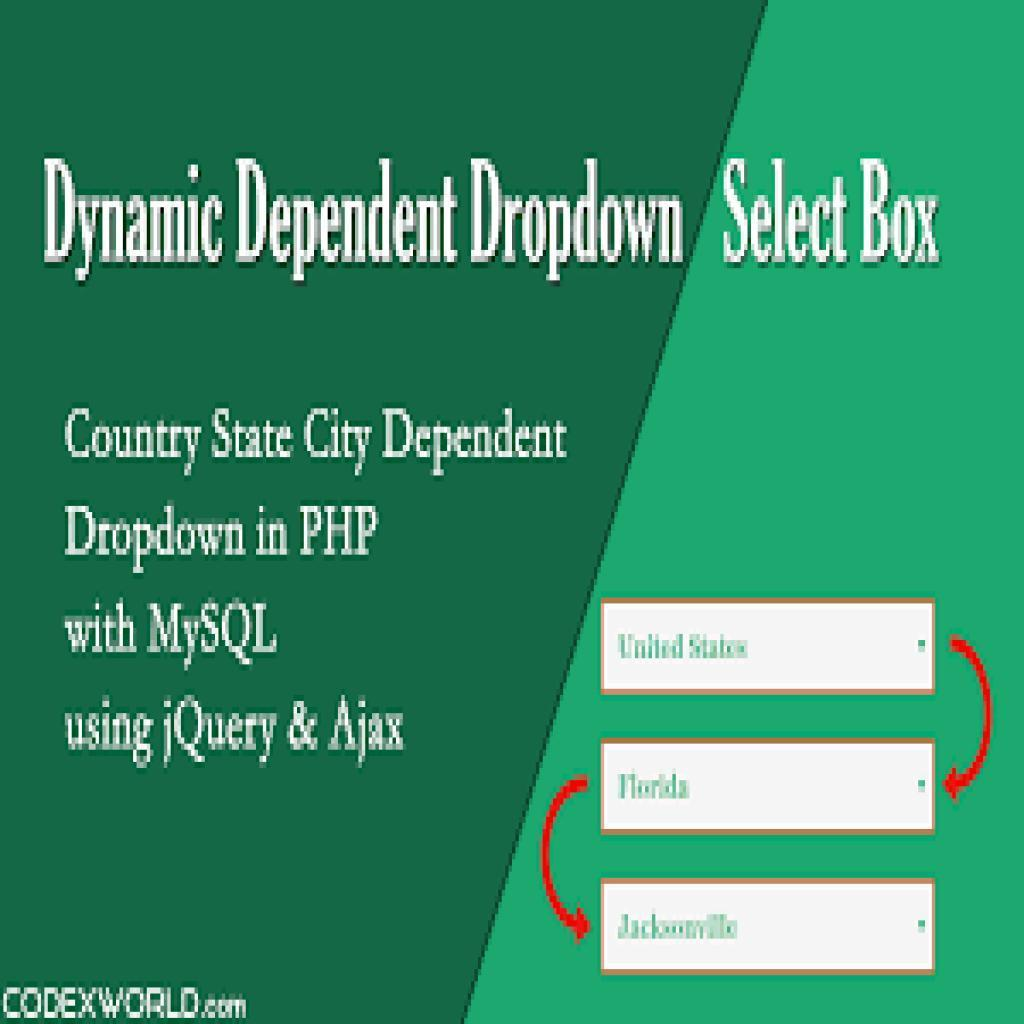dropdown: (600, 739, 937, 836), (603, 599, 936, 696), (599, 879, 937, 972)
